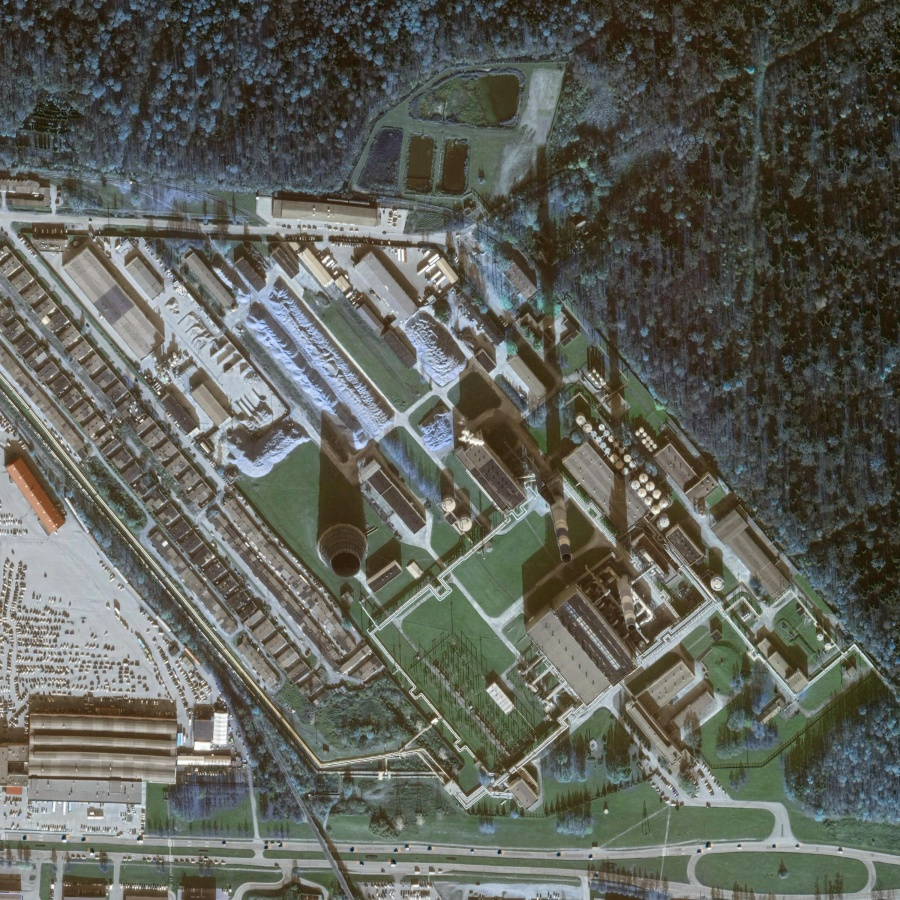PowerPlant: (292, 301, 828, 748)
